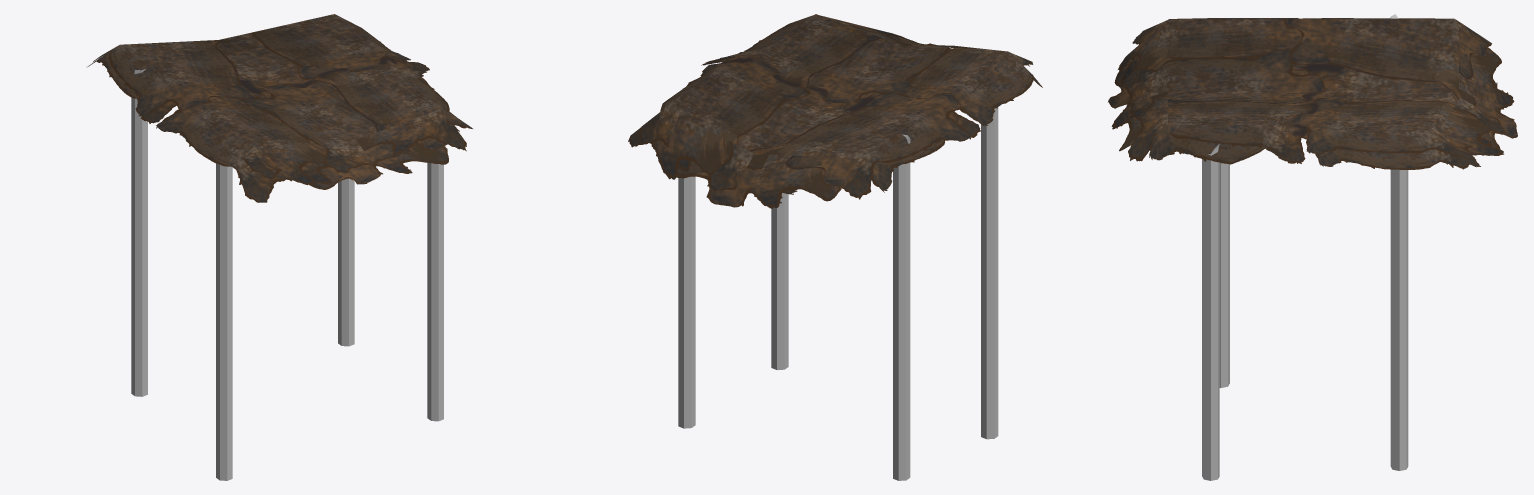
The model's file is ShelterNew.fbx.
The picture shows the model from 3 angles, left to right: view 1: azimuth 30°, elevation 25°; view 2: azimuth 150°, elevation 25°; view 3: azimuth 270°, elevation 25°; orthographic projection. The views are drawn at different scales.
Visible parts, largest first — view 1: pCube3, polySurface1; view 2: pCube3, polySurface1; view 3: pCube3, polySurface1.
Boxes of the visible parts, bbox=[...] form: pCube3: bbox=[86, 14, 472, 202]; polySurface1: bbox=[131, 69, 443, 480]; pCube3: bbox=[628, 14, 1042, 208]; polySurface1: bbox=[678, 107, 998, 480]; pCube3: bbox=[1108, 18, 1517, 169]; polySurface1: bbox=[1202, 14, 1408, 480].
Bounding box in the file's own units: 15.47 × 15.21 × 15.71.
